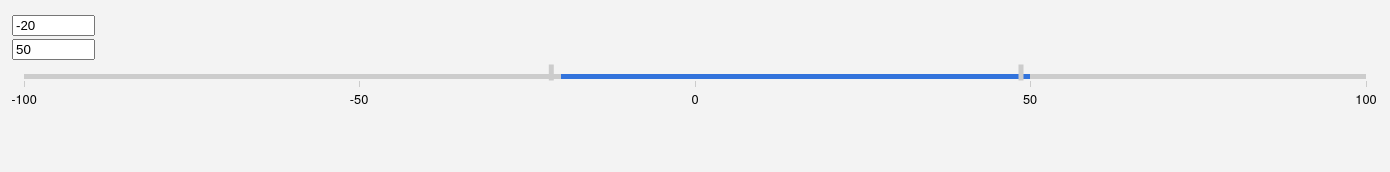
Test case: <DualRangeSlider/> › should prevent values outside of domain
Replace the text in the number field with test id "lower-bound-input" with "-111" at (54, 26), box [12,15,95,36]
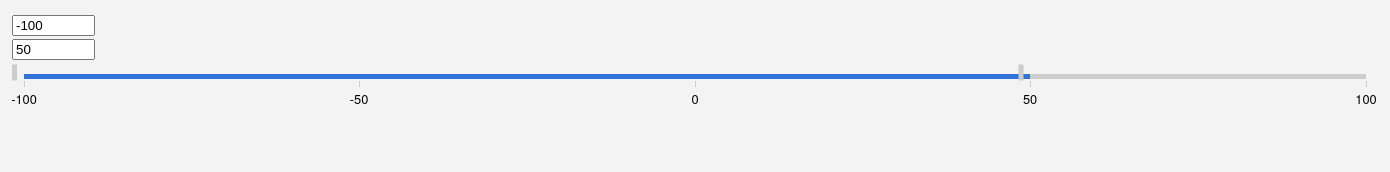
Expected: the number field with test id "lower-bound-input" holds "-100"
Replace the text in the number field with test id "lower-bound-input" with "70" at (54, 26), box [12,15,95,36]
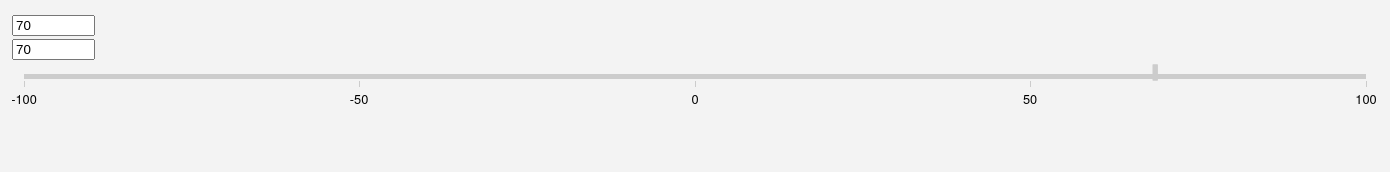
Expected: the number field with test id "upper-bound-input" holds "70", [12,39,95,60]
